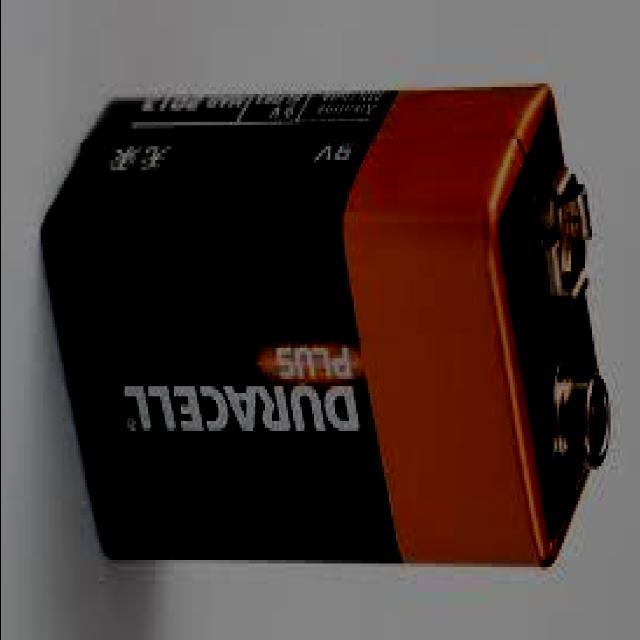9V: (42, 80, 612, 567)
